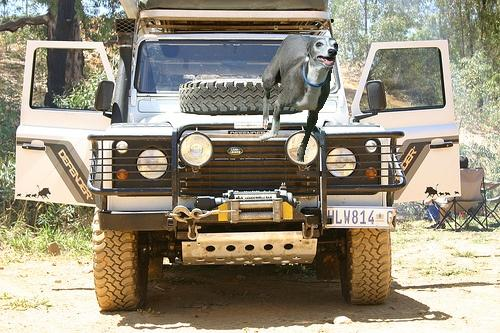tampered: (260, 35, 338, 162)
